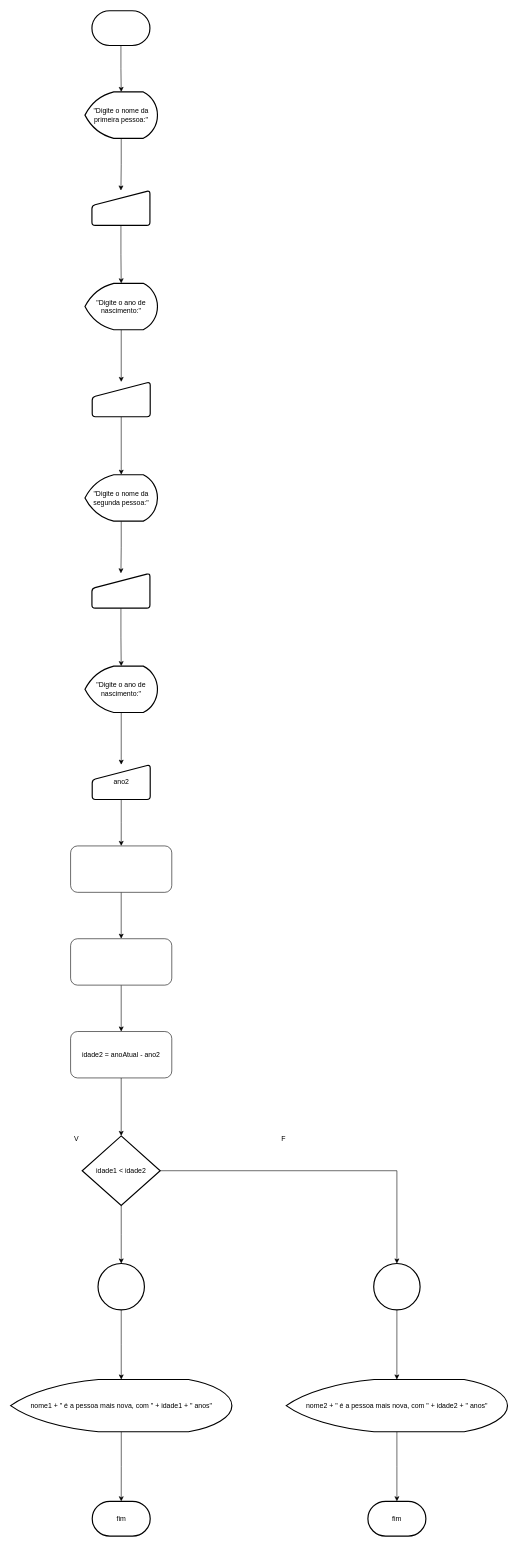
The diagram is 518 pixels wide and 1546 high, and some of its shapes have lost their labels. Each missing label, with the centre of its shape:
"ano1" goes at point 121,399.
"anoAtual = 2023" goes at point 121,868.
"idade1 = anoAtual - ano1" goes at point 121,961.
"inicio" goes at point 120,28.
"nome1" goes at point 120,208.
"nome2" goes at point 120,590.
